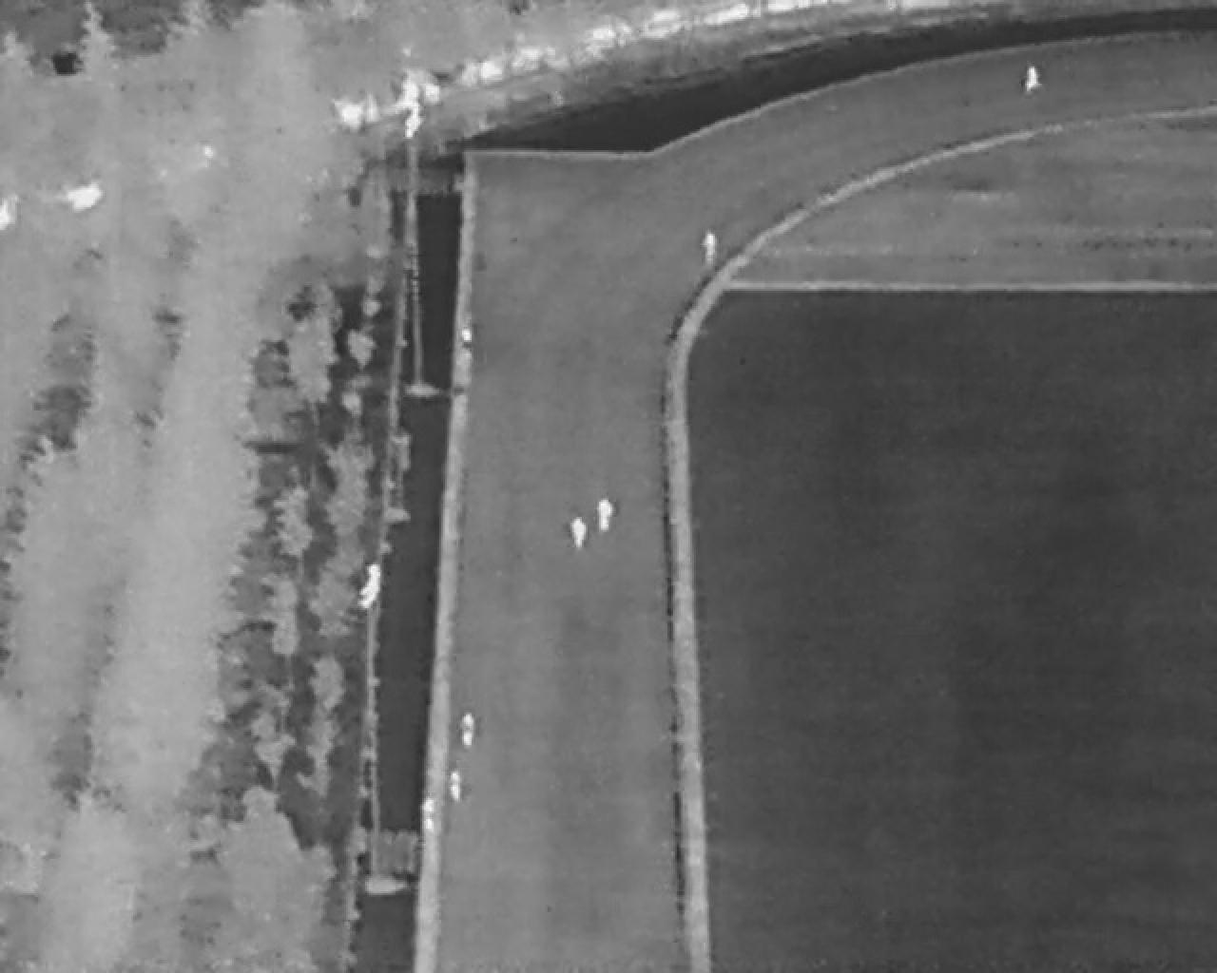person: (701, 231, 720, 269), (571, 516, 589, 550), (461, 714, 478, 750), (598, 499, 615, 533), (450, 769, 465, 805), (1026, 66, 1043, 94), (423, 797, 436, 831), (461, 328, 474, 358)
